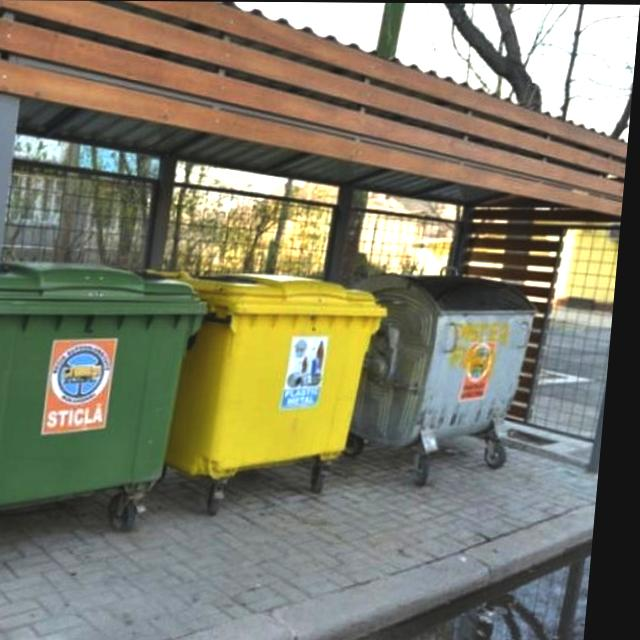Trash_Can_Closed: (136, 267, 398, 480), (0, 259, 217, 514)
Trash_Can_Empty: (345, 271, 545, 450)
